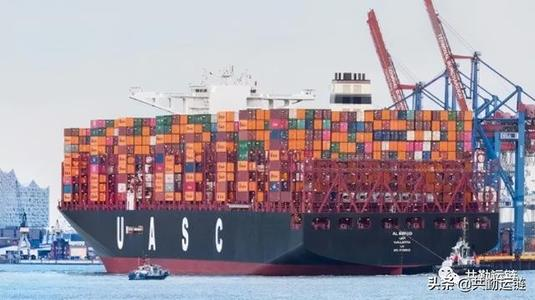Cargoship: (47, 65, 503, 270)
otherboat: (426, 234, 504, 276), (128, 254, 172, 282)
